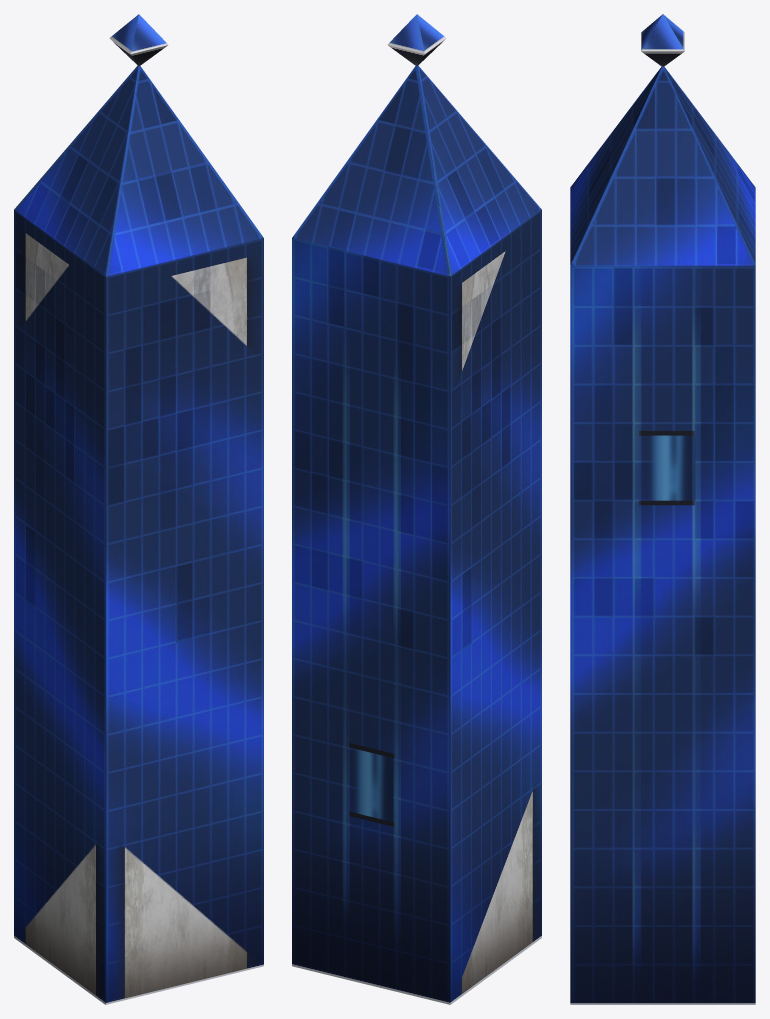
Rendered from House_6(2).fbx.
The picture shows the model from 3 angles, left to right: view 1: azimuth 30°, elevation 25°; view 2: azimuth 150°, elevation 25°; view 3: azimuth 270°, elevation 25°; orthographic projection.
Parts seen in each view (by area): view 1: House_6; view 2: House_6; view 3: House_6.
Part boxes in pixels (x1,y1,x2,y2): House_6: (14, 14, 263, 1004); House_6: (292, 14, 541, 1004); House_6: (570, 14, 755, 1004).
Size of the model in its own units: 25 by 141 by 25.
Materials: 1 (1 with a texture image).
